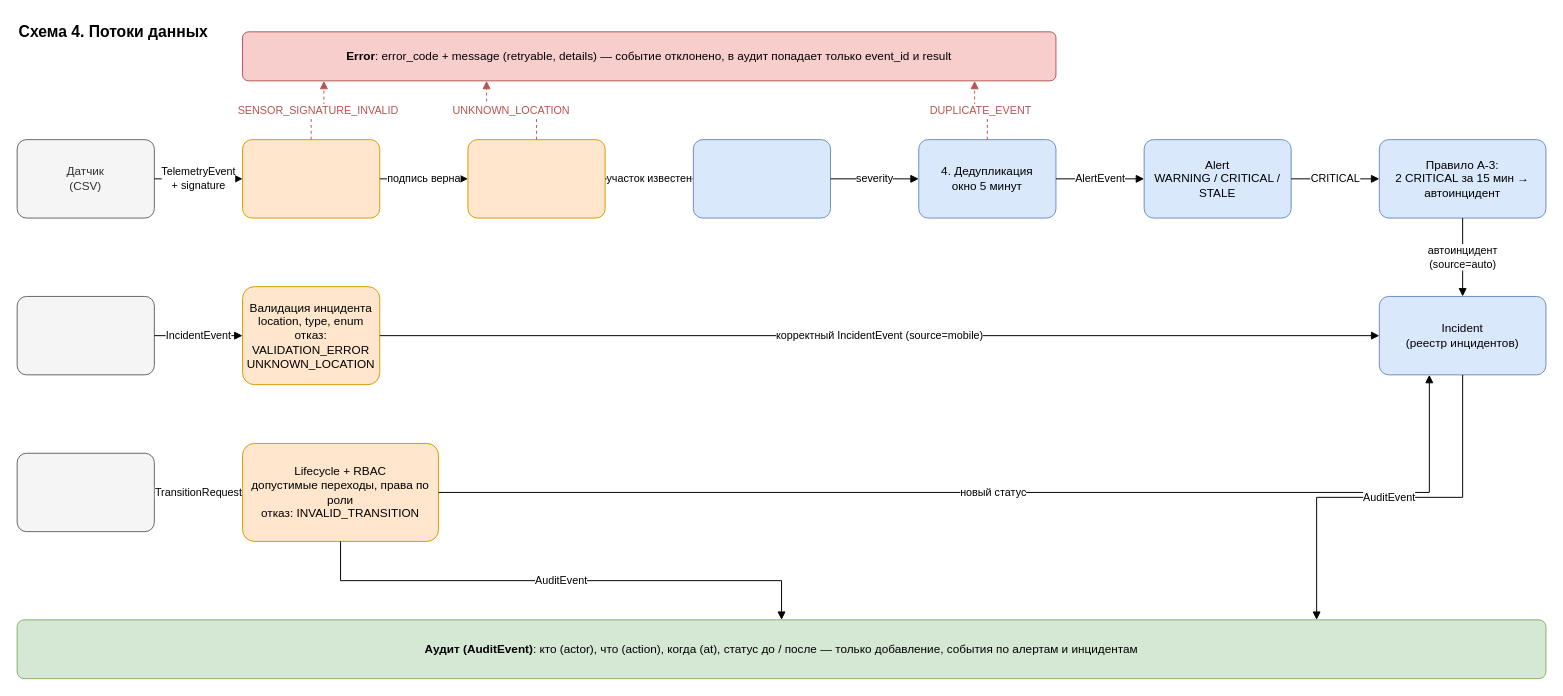
Image size: 1563x696. Some labels were removed from this diagram. The shapes that lost their labels are listed below. From the top down, each one's box as (x1, y1, x2, y2) in pixels, then its label:
(242, 139, 380, 218): 1. Проверка подписи HMAC-SHA256
(467, 139, 605, 218): 2. Проверка участка location ∈ sites.csv
(692, 139, 831, 218): 3. Расчёт severity по отклонению, %
(16, 295, 154, 375): Мобильное приложение
(16, 452, 154, 532): Диспетчер / инженер / руководитель
